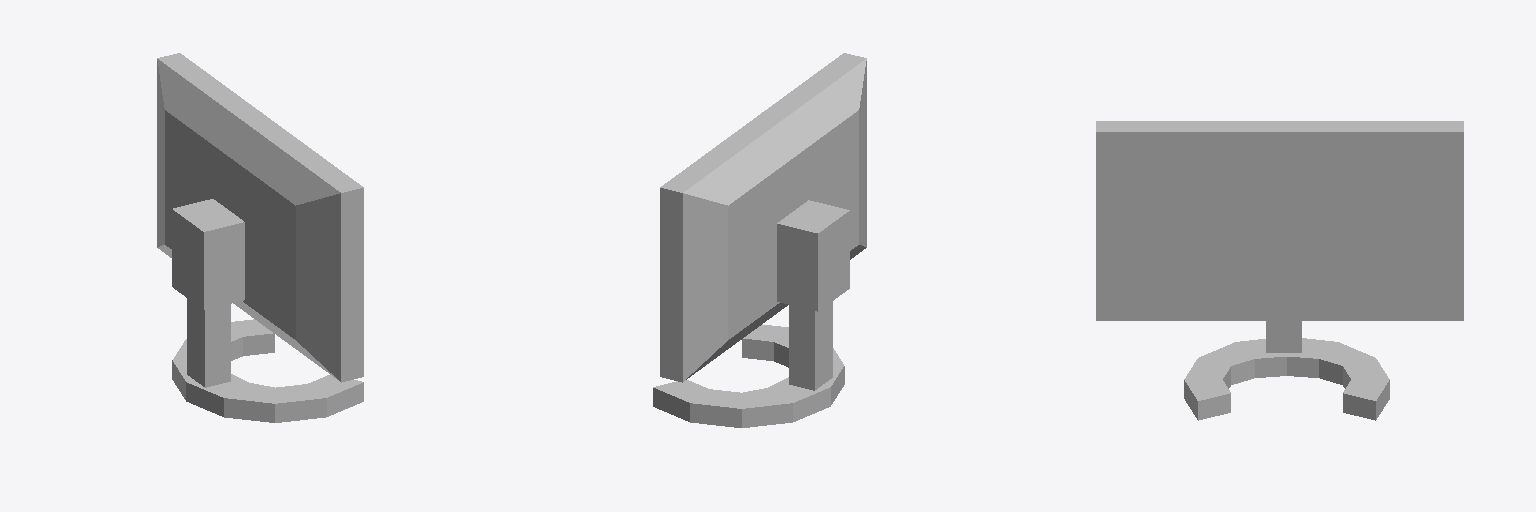
File: Moniter.obj
3 renders of one model, left to right at view 1: azimuth 30°, elevation 25°; view 2: azimuth 150°, elevation 25°; view 3: azimuth 270°, elevation 25°, orthographic.
Parts seen in each view (by area): view 1: Moniter pCube25, Moniter pCylinder9, Moniter pCube26, pCube27 Moniter; view 2: Moniter pCube25, Moniter pCylinder9, Moniter pCube26, pCube27 Moniter; view 3: Moniter pCube25, Moniter pCylinder9, pCube27 Moniter.
Boxes of the visible parts, box(x1,y1,x2,y2) form: Moniter pCube25: box(157, 53, 363, 382); Moniter pCylinder9: box(172, 319, 363, 422); Moniter pCube26: box(172, 199, 244, 309); pCube27 Moniter: box(187, 298, 230, 387); Moniter pCube25: box(660, 53, 866, 382); Moniter pCylinder9: box(653, 324, 844, 427); Moniter pCube26: box(777, 200, 849, 311); pCube27 Moniter: box(789, 301, 832, 390); Moniter pCube25: box(1096, 121, 1463, 320); Moniter pCylinder9: box(1184, 338, 1389, 420); pCube27 Moniter: box(1266, 321, 1301, 352).
Bounding box in the file's own units: 1.51 × 2.83 × 3.58.